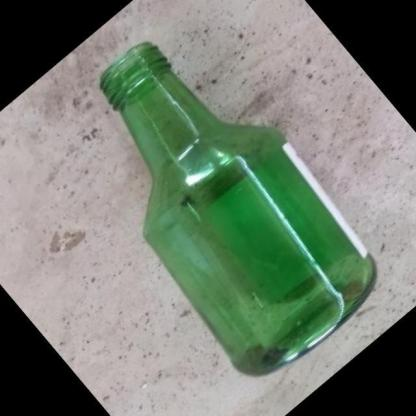Can: (100, 42, 377, 378)
